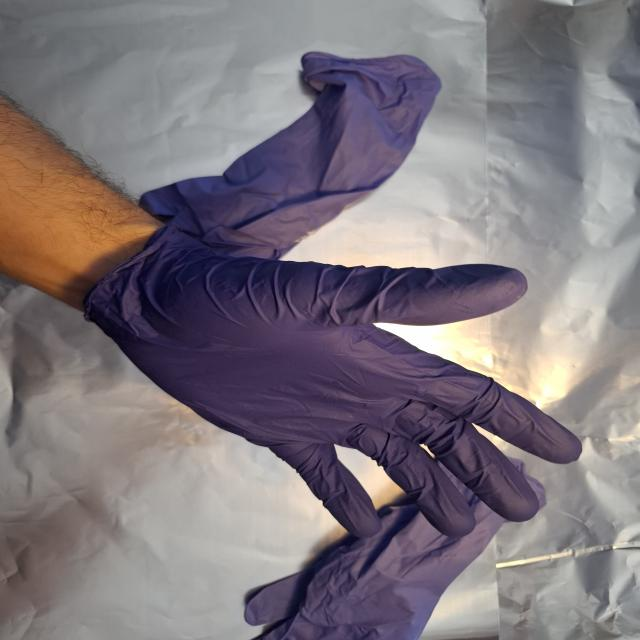glove_on: (87, 219, 588, 541)
